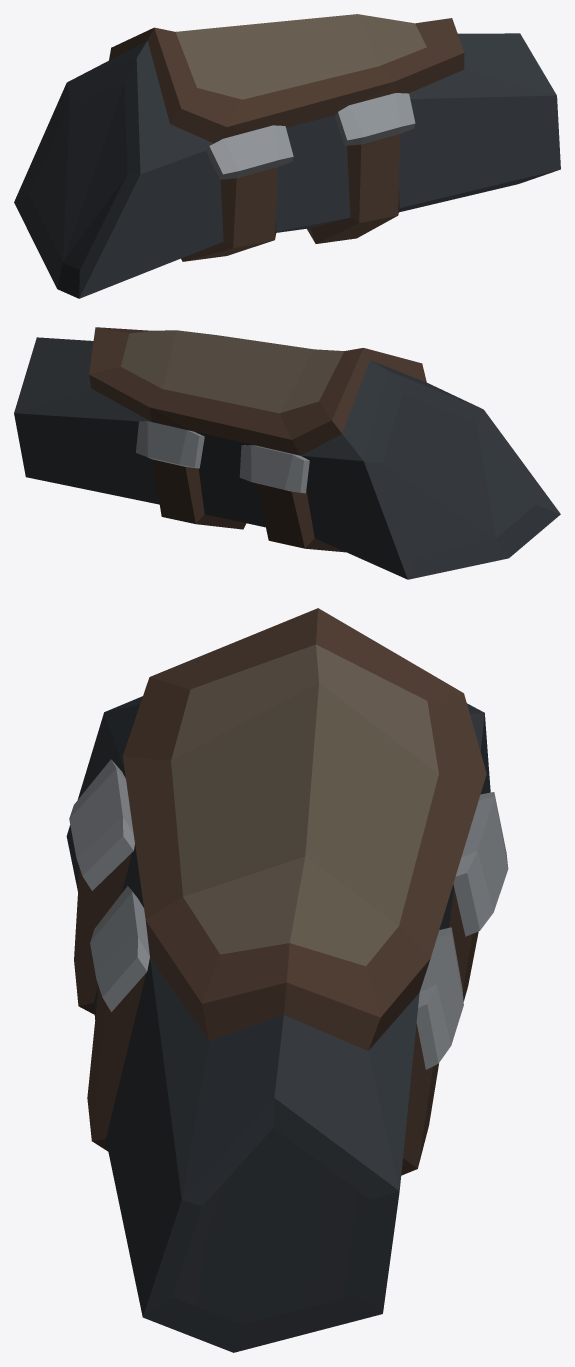
Rendered from Chr_ArmUpperLeft_Female_09_Static.fbx.
3 renders of one model, top to bottom at view 1: azimuth 30°, elevation 25°; view 2: azimuth 150°, elevation 25°; view 3: azimuth 270°, elevation 25°, orthographic. The views are drawn at different scales.
Parts seen in each view (by area): view 1: Chr_ArmUpperLeft_Female_09_Static; view 2: Chr_ArmUpperLeft_Female_09_Static; view 3: Chr_ArmUpperLeft_Female_09_Static.
Part boxes in pixels (x1,y1,x2,y2): Chr_ArmUpperLeft_Female_09_Static: [14, 14, 560, 298]; Chr_ArmUpperLeft_Female_09_Static: [14, 327, 560, 579]; Chr_ArmUpperLeft_Female_09_Static: [66, 608, 508, 1352].
Size of the model in its own units: 0.3535 by 0.1607 by 0.1397.
